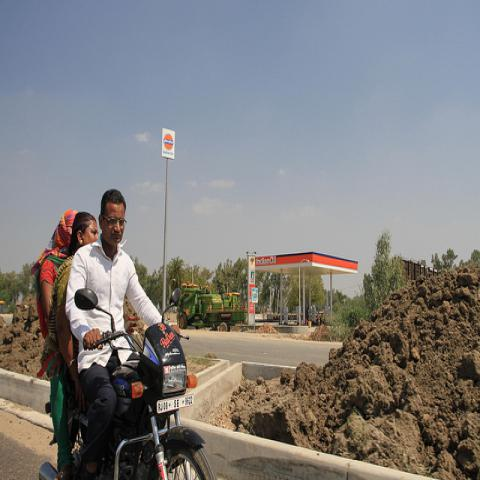motorcycle: (38, 289, 216, 475)
truck: (178, 279, 249, 332)
